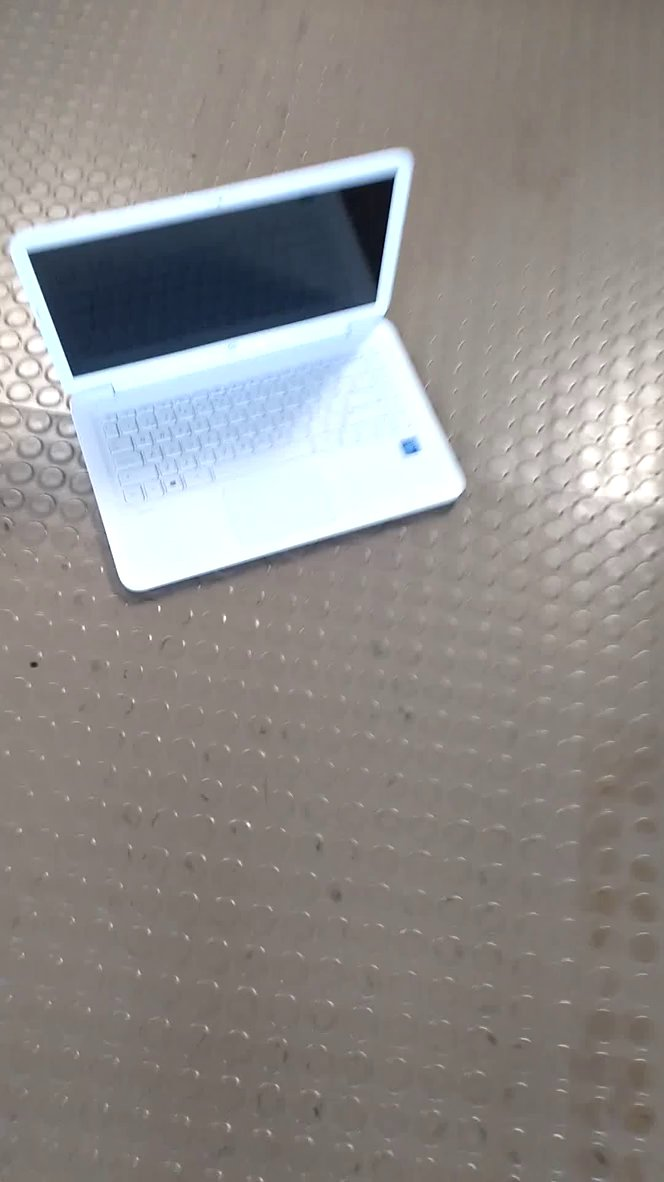laptop: (8, 137, 480, 614)
